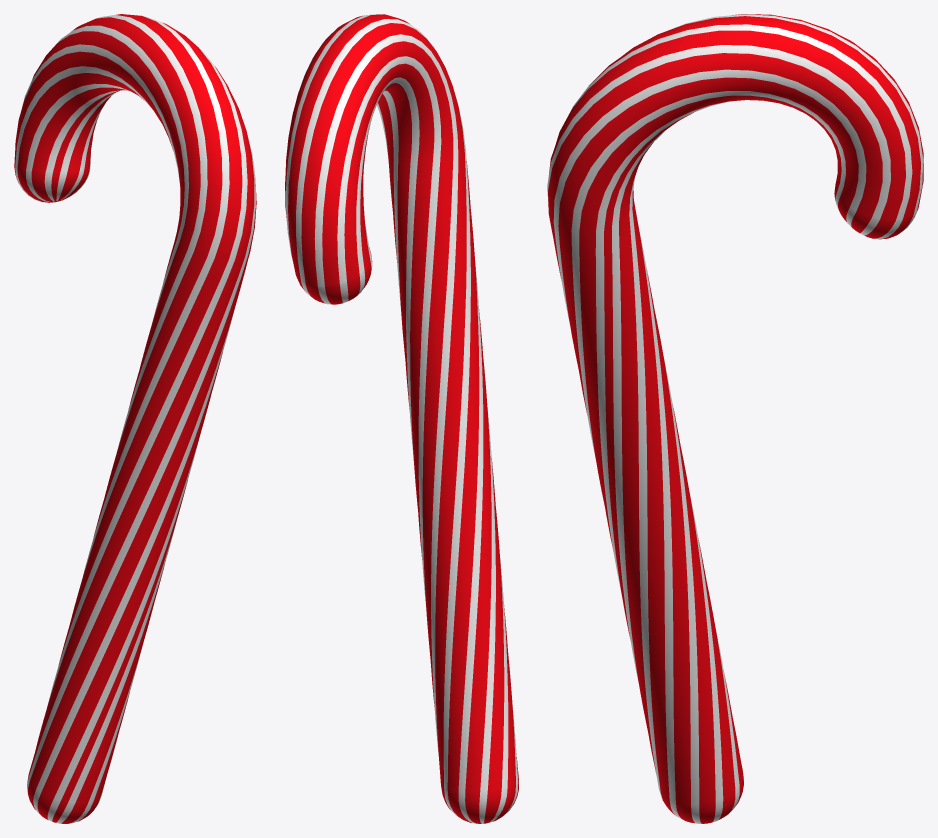
Rendered from candy_cane.glb.
3 views of the same model, side by side, from view 1: azimuth 30°, elevation 25°; view 2: azimuth 150°, elevation 25°; view 3: azimuth 270°, elevation 25° (orthographic). The views are drawn at different scales.
Parts seen in each view (by area): view 1: Sphere; view 2: Sphere; view 3: Sphere.
Part boxes in pixels (left/top/right/bottom): Sphere: left=14, top=14, right=256, bottom=823; Sphere: left=285, top=14, right=518, bottom=823; Sphere: left=547, top=14, right=923, bottom=823.
Size of the model in its own units: 533 by 2187 by 869.
